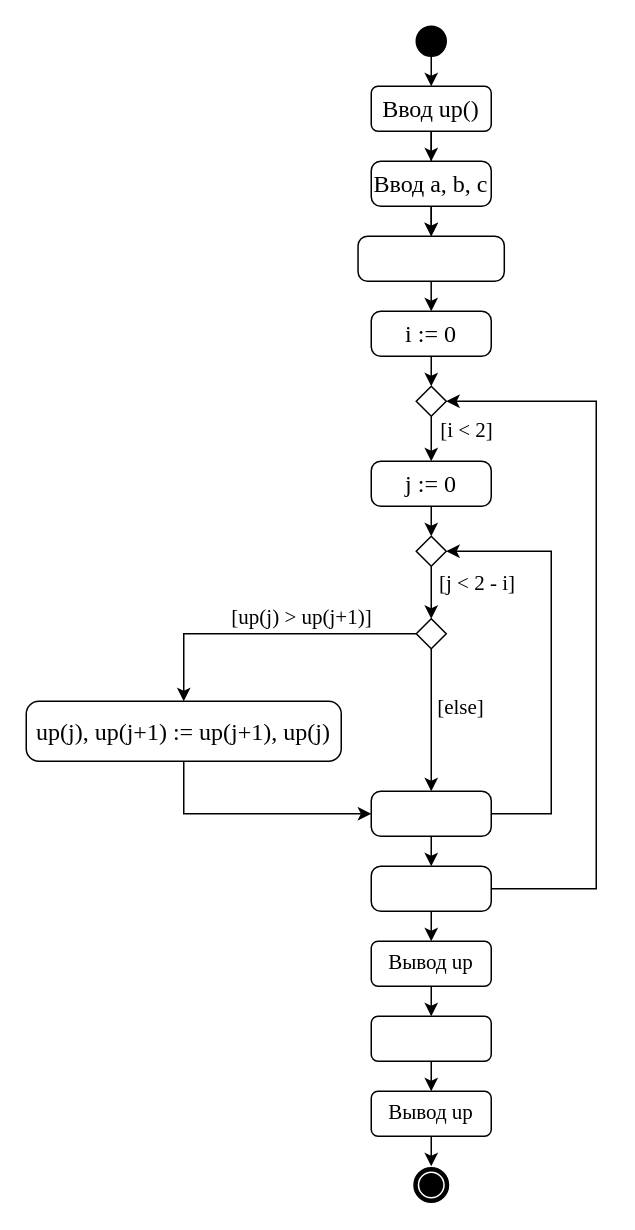
Image size: 635x1230. Some labels were removed from this diagram. The shapes that lost their labels are listed below. From the top down, each one's box as (x1, y1, x2, y2) in pixels, then its label:
(357, 235, 504, 281): up := a, b, c
(370, 790, 491, 836): j := j + 1
(370, 865, 491, 911): i := i + 1
(370, 1015, 491, 1061): up.reverse()
